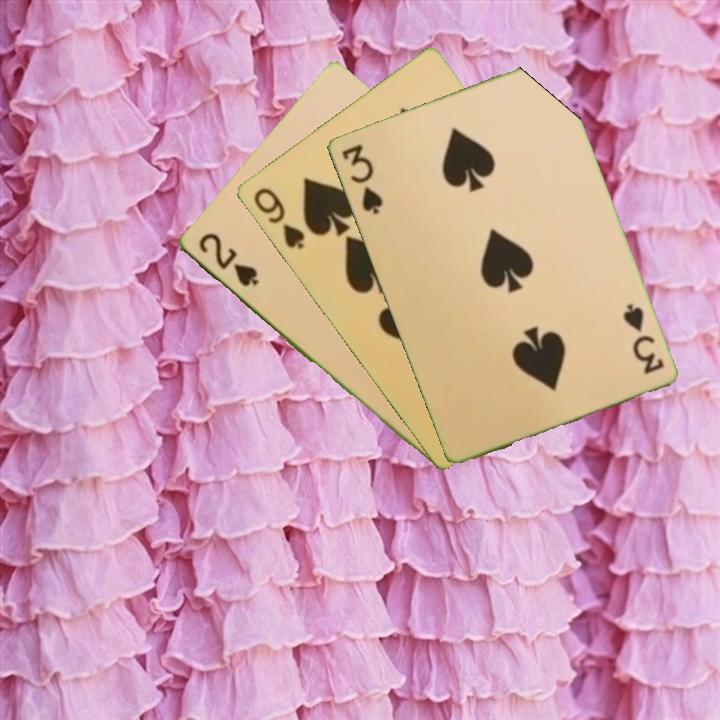2s: (194, 229, 261, 290)
3s: (337, 140, 386, 217), (618, 299, 666, 377)
9s: (249, 184, 307, 253)
